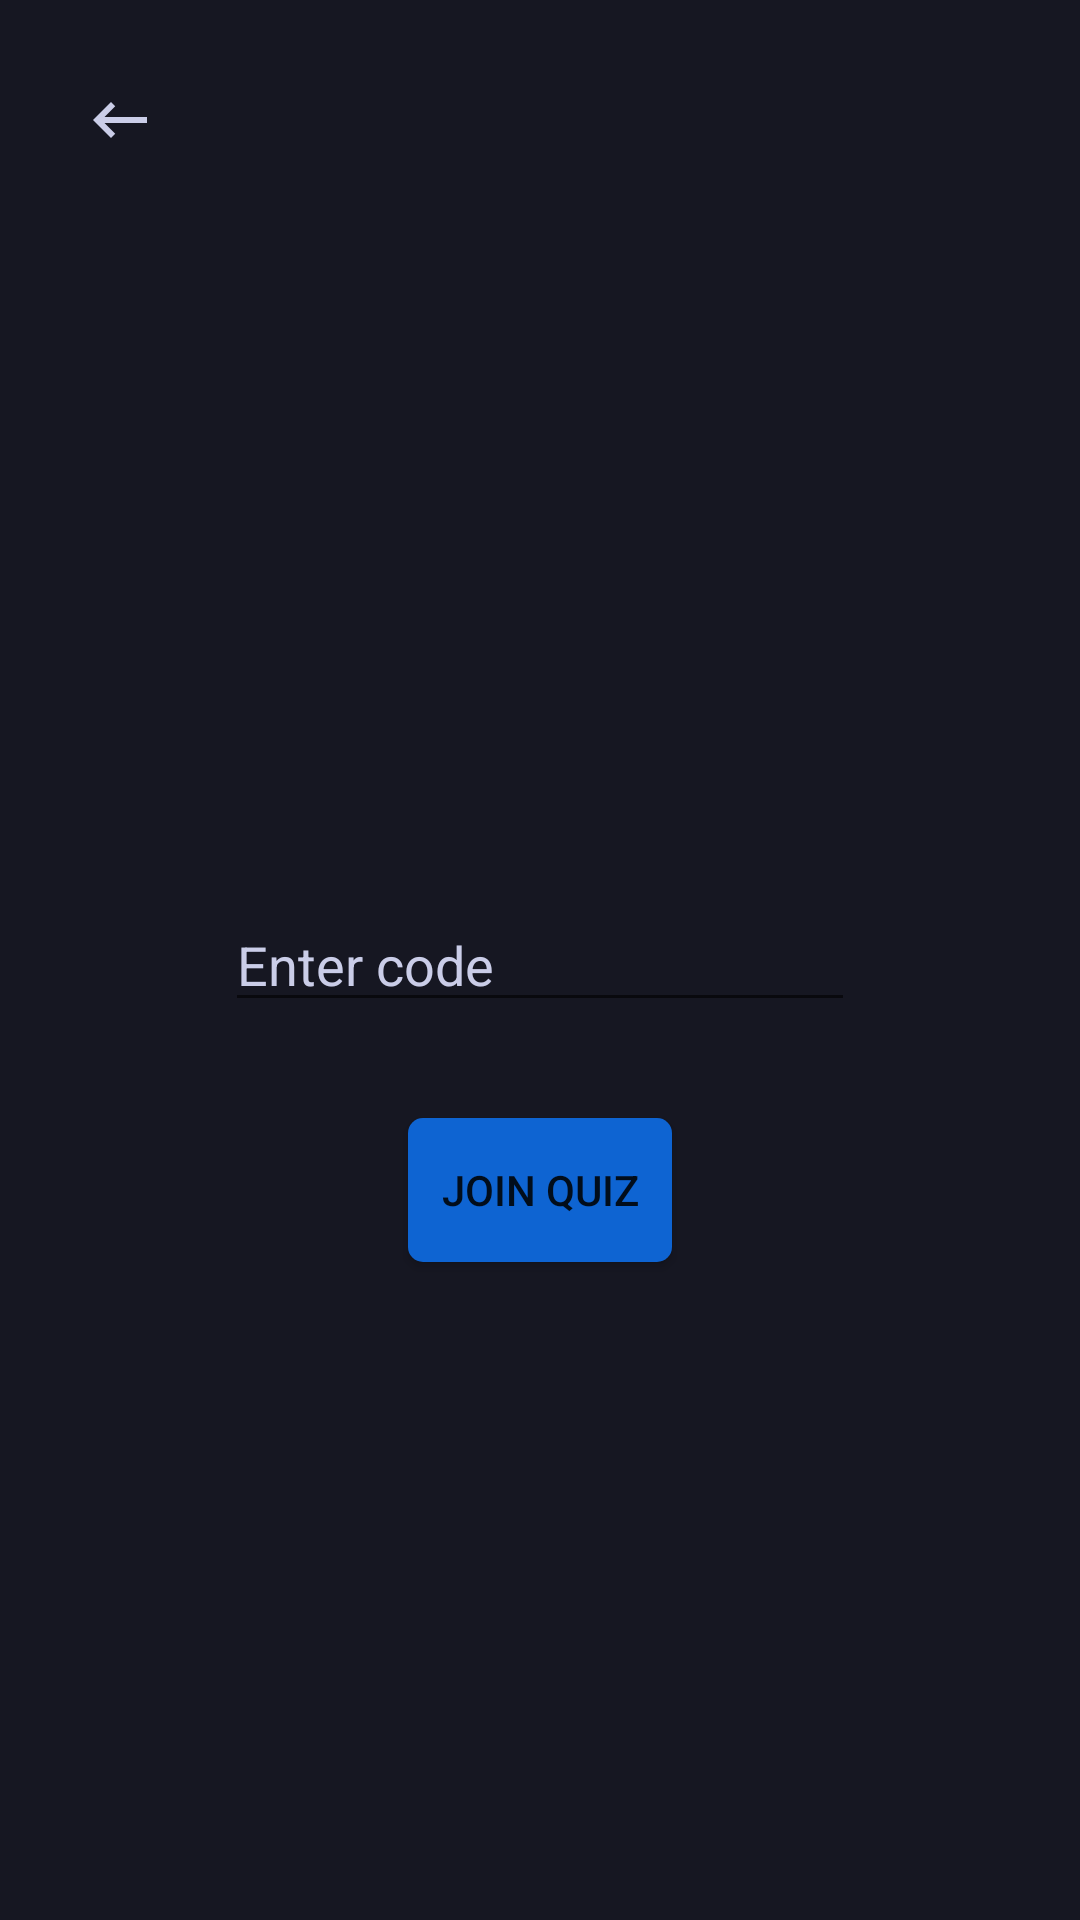

Icon click points for this 1080x1920 phone screenshot, format [x,y]:
keyboard backspace: [120,120]
